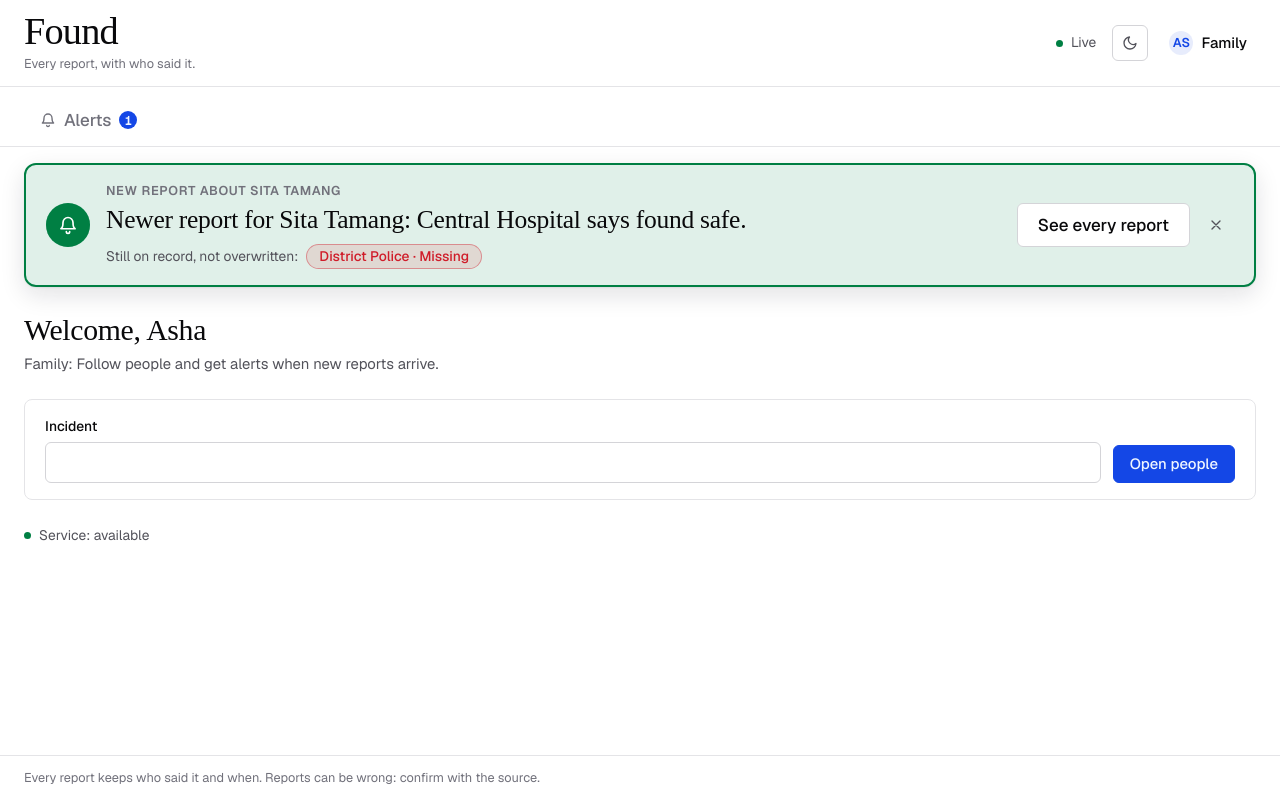
Scenario: live alerts › connects with the token, shows the status and a banner for a new alert
The image size is (1280, 800).
Expected: the text "Live" is shown, [1071,32,1096,54]
Expected: the heading "Newer report for Sita Tamang: Central Hospital says found safe." is shown, [106,205,746,234]
Click the button named "Dismiss alert" at (1216, 225), box [1198,207,1234,243]
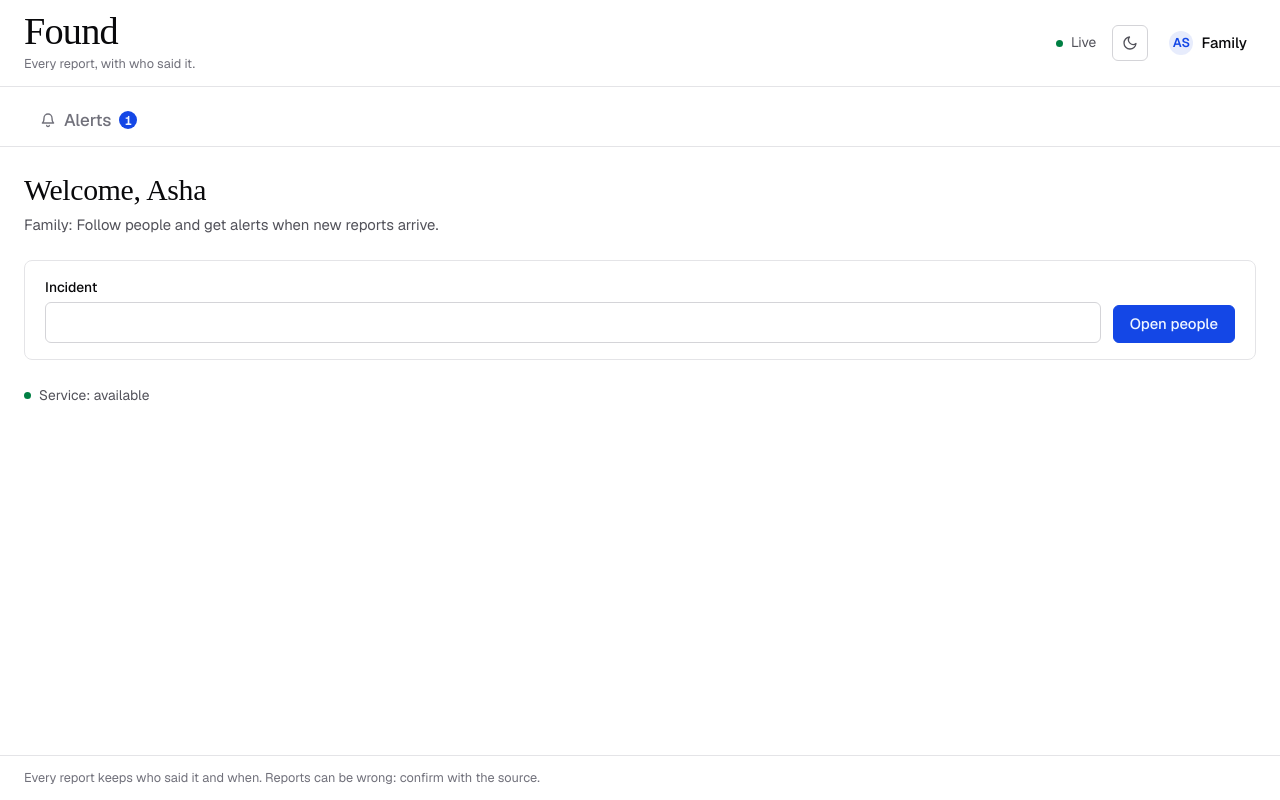
Now the heading "Newer report for Sita Tamang: Central Hospital says found safe." is gone
